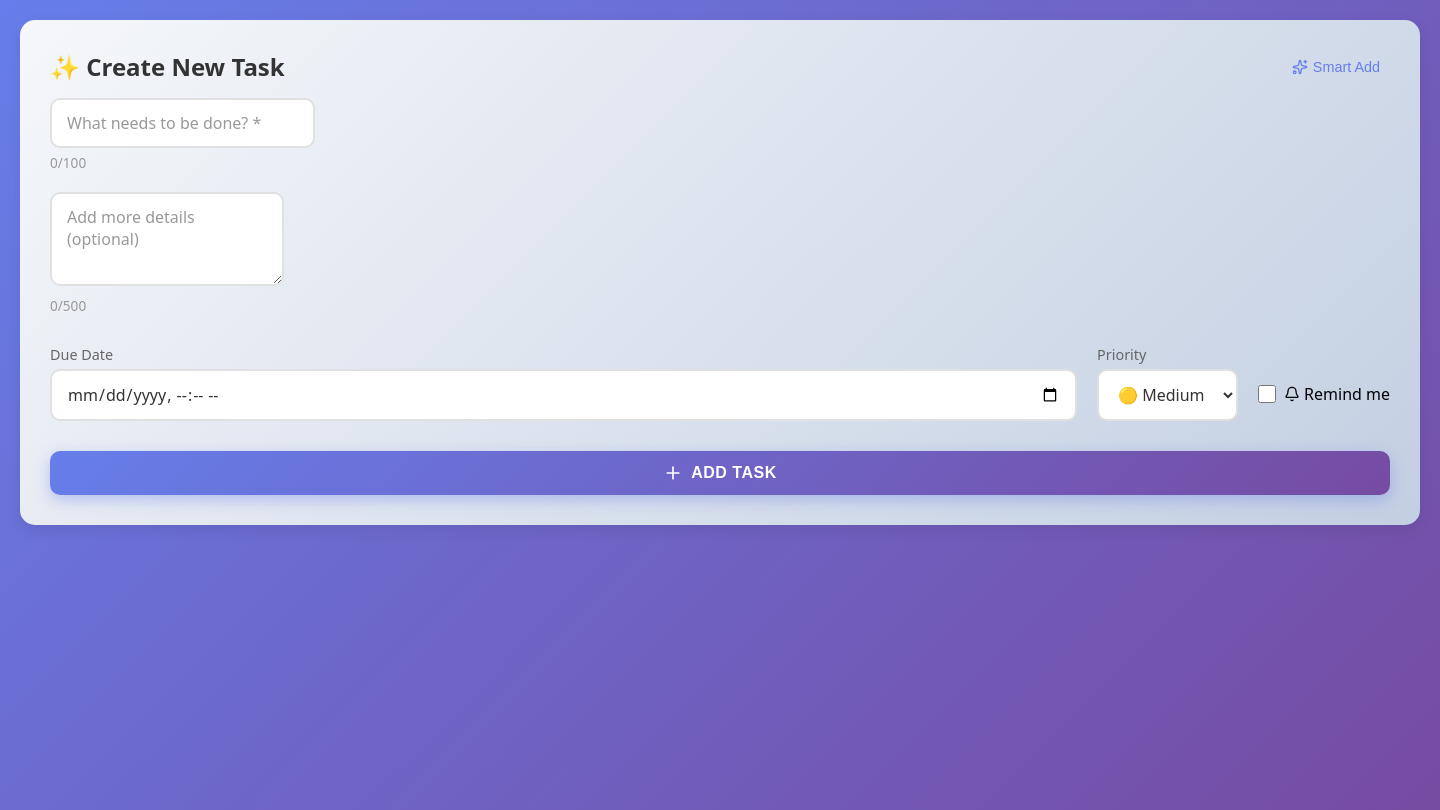
it: TaskForm Smart Add › toggles smart add input
Expected: the field with placeholder "e.g., 'Call Mom" is not shown
Click button
Click the button "Smart Add" at (1336, 66), box x1=1282 y1=54 x2=1390 y2=80
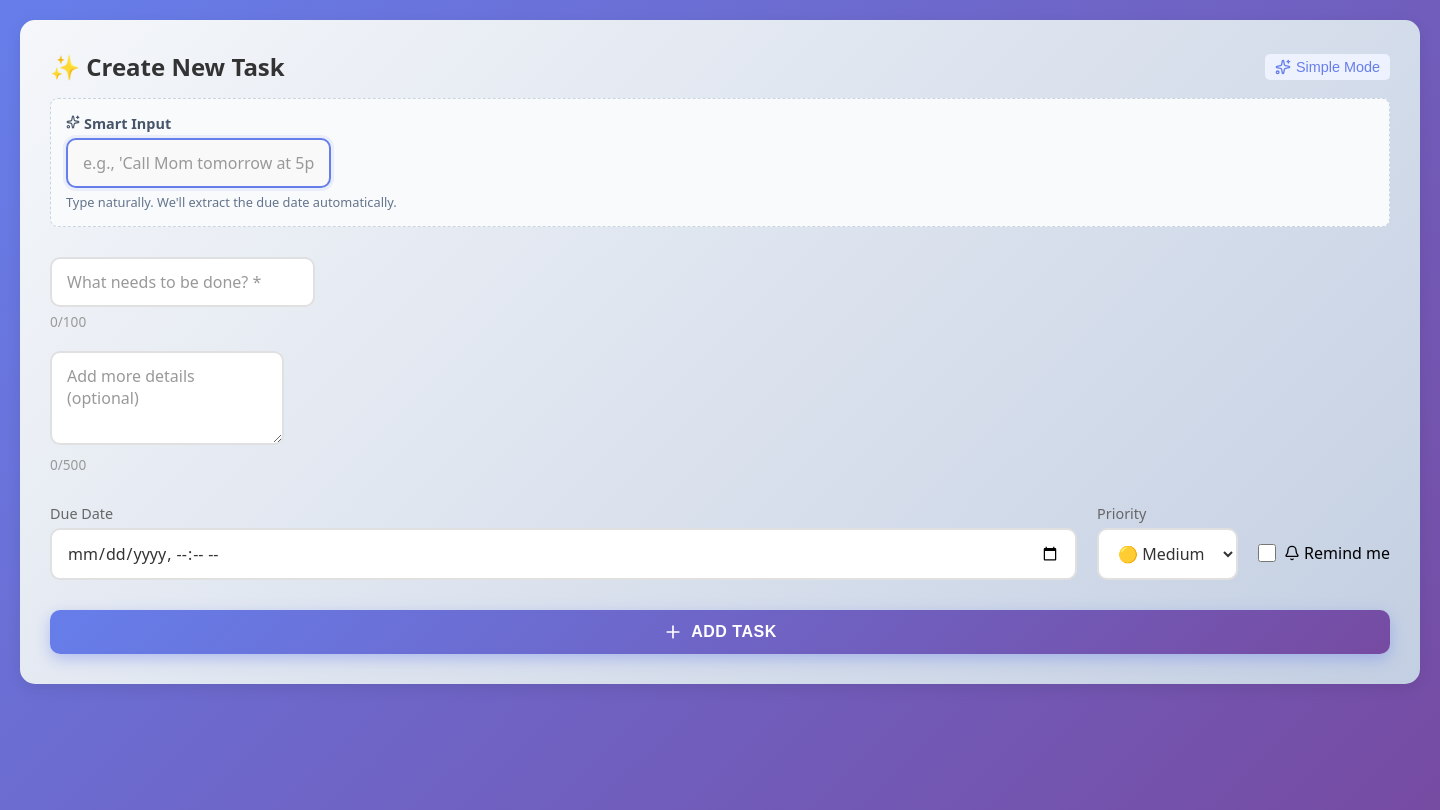
Expected: the field with placeholder "e.g., 'Call Mom tomorrow at 5pm'" is shown, x1=66 y1=138 x2=331 y2=188
